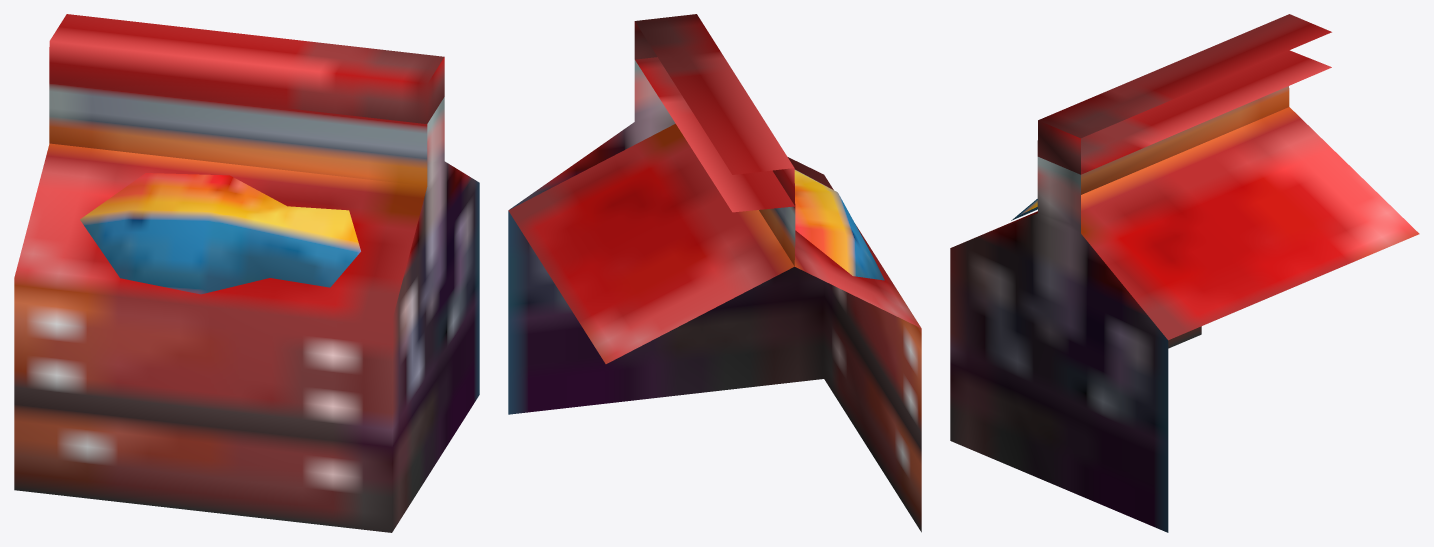
Rendered from fg_toolbox_B_out.dae.
3 views of the same model, side by side, from view 1: azimuth 30°, elevation 25°; view 2: azimuth 150°, elevation 25°; view 3: azimuth 270°, elevation 25° (orthographic). The views are drawn at different scales.
Parts seen in each view (by area): view 1: fg_toolbox_B_out; view 2: fg_toolbox_B_out; view 3: fg_toolbox_B_out.
Boxes of the visible parts, box(x1,y1,x2,y2) form: fg_toolbox_B_out: box(14, 14, 479, 532); fg_toolbox_B_out: box(508, 14, 921, 532); fg_toolbox_B_out: box(950, 14, 1419, 532).
Bounding box in the file's own units: 19.8 × 16.64 × 19.8.
1 material, 1 textured.
